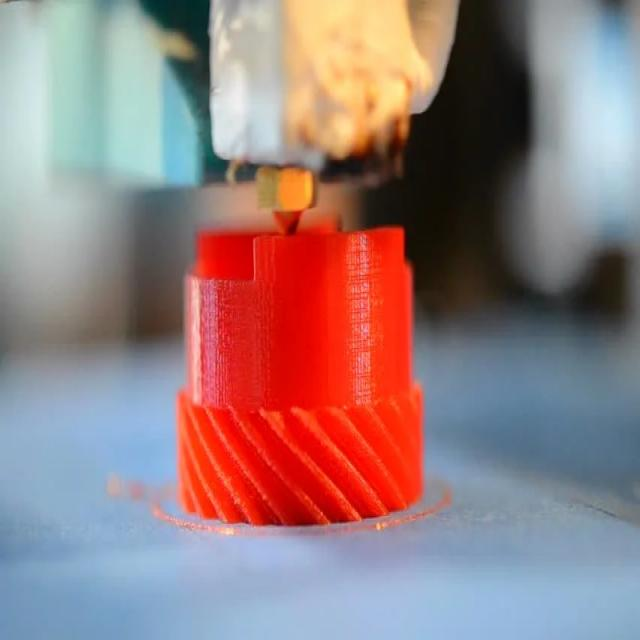Without deffect: (161, 231, 437, 549)
